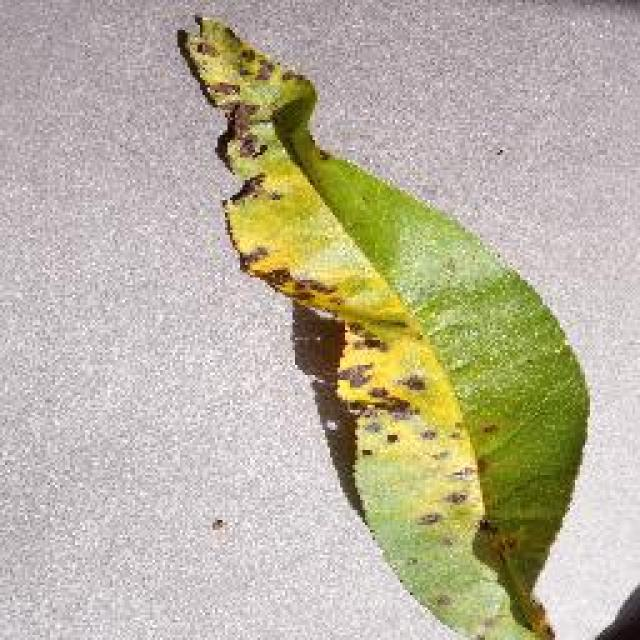Peach_Bacterial_Spot: (178, 27, 475, 455)
